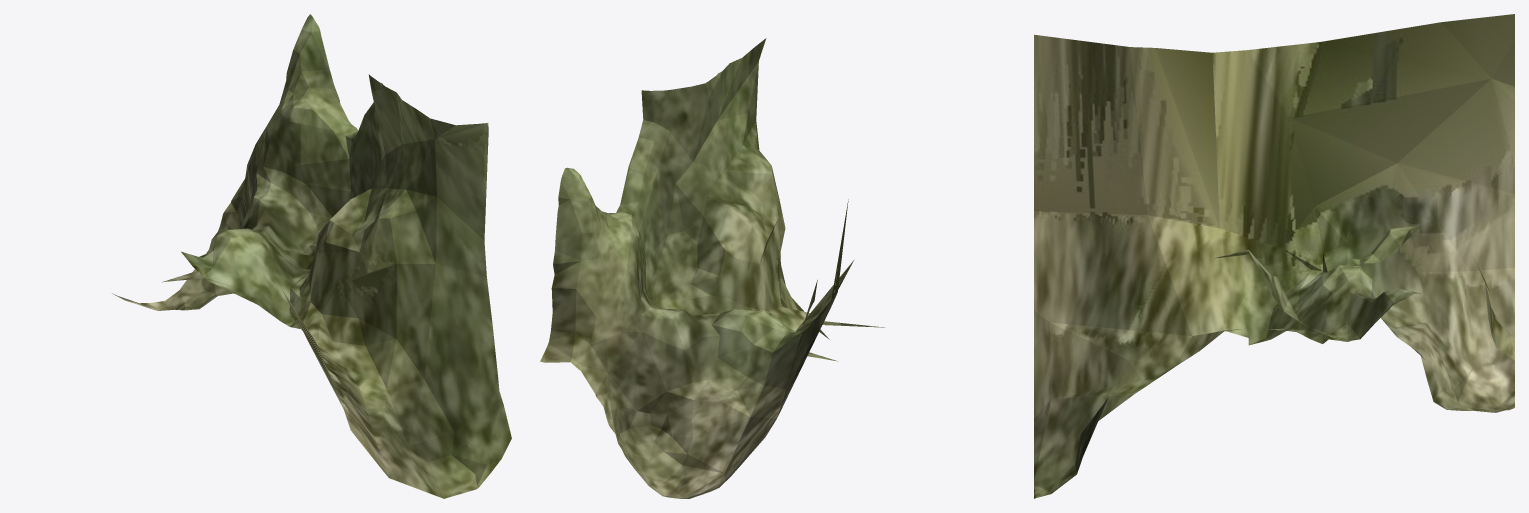
3 renders of one model, left to right at view 1: azimuth 30°, elevation 25°; view 2: azimuth 150°, elevation 25°; view 3: azimuth 270°, elevation 25°, orthographic. The views are drawn at different scales.
Size of the model in its own units: 2.05 by 2.47 by 2.95.
Materials: 3 (3 with a texture image).
